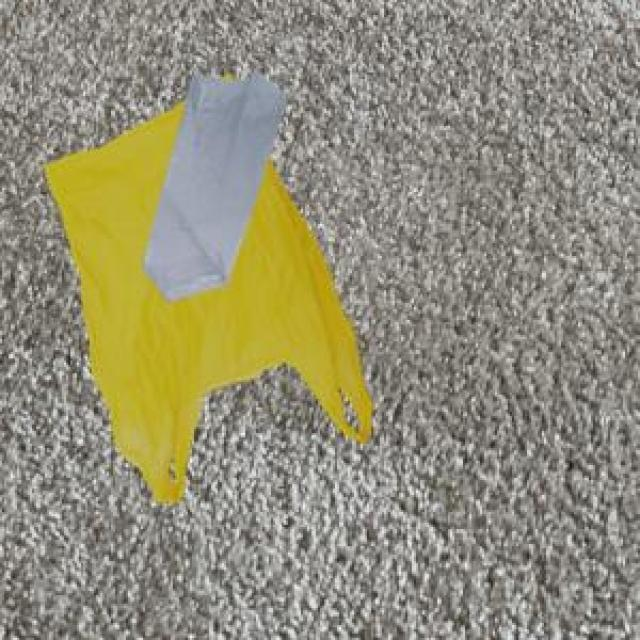waste: (45, 74, 372, 503)
